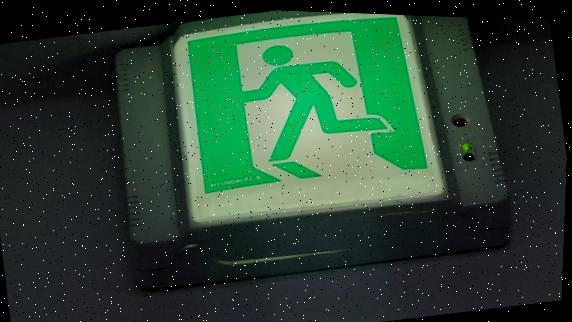emergency_exit: (112, 10, 512, 290), (170, 12, 449, 229)
